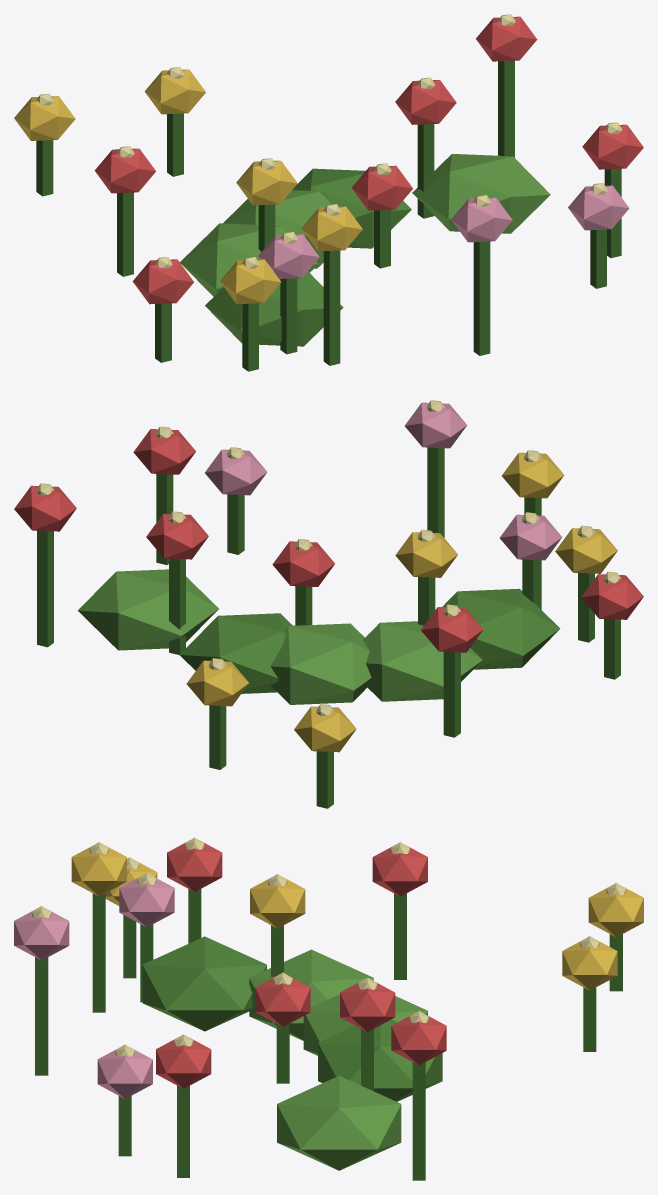
The model's file is c-blooms-tulips.glb.
The picture shows the model from 3 angles, top to bottom: view 1: azimuth 30°, elevation 25°; view 2: azimuth 150°, elevation 25°; view 3: azimuth 270°, elevation 25°; orthographic projection. The views are drawn at different scales.
Parts seen in each view (by area): view 1: c-blooms-tulips; view 2: c-blooms-tulips; view 3: c-blooms-tulips.
Part boxes in pixels (box(x1,y1,x2,y2)): c-blooms-tulips: box(14, 14, 643, 371); c-blooms-tulips: box(14, 400, 643, 808); c-blooms-tulips: box(14, 837, 643, 1180).
Size of the model in its own units: 0.7406 by 0.2373 by 0.7748.
